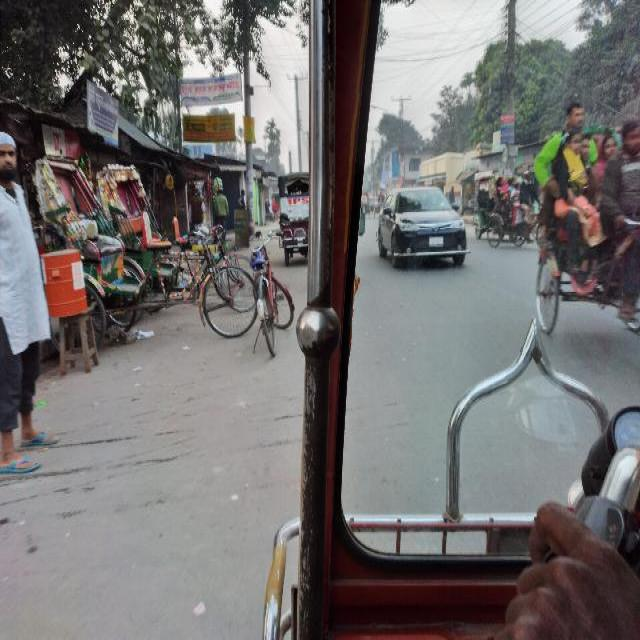bike: (253, 230, 295, 359)
vehicle: (31, 154, 258, 342), (536, 101, 640, 344), (95, 164, 257, 318), (376, 186, 474, 269), (487, 173, 547, 249), (278, 172, 312, 267), (474, 176, 492, 240), (374, 190, 389, 220), (361, 190, 371, 220)
